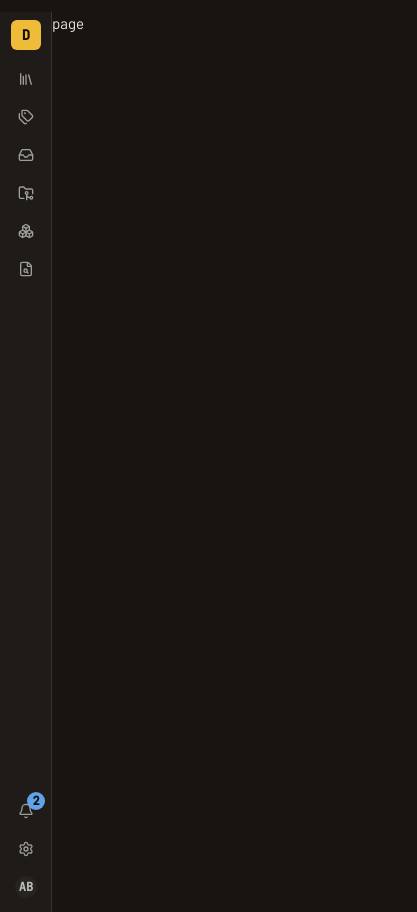
Shell notification bell › shows an unread-count badge and toggles the centre open
Click the button named "Notifications" at coordinates (26, 811), box [9, 794, 43, 828]
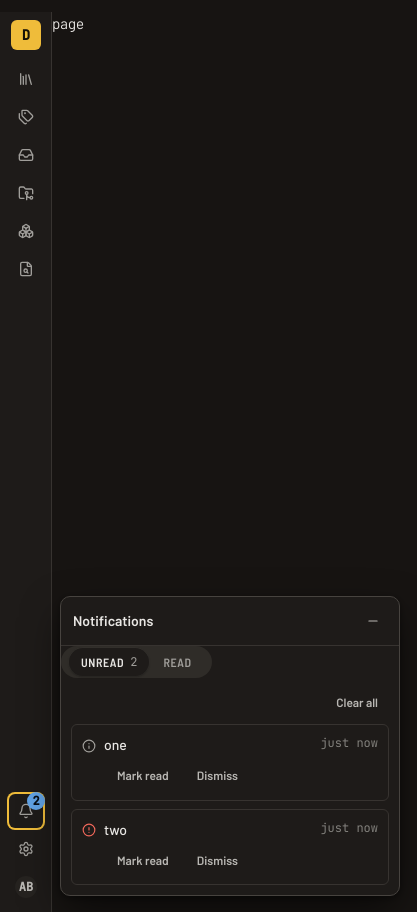
Check: the element named "Notification centre" is shown, box [60, 596, 400, 896]
